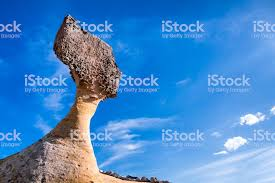yehliu: (42, 10, 134, 107)
